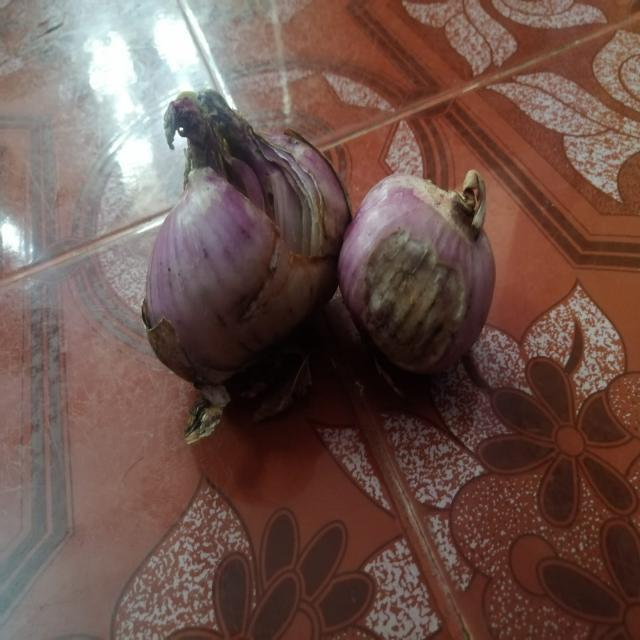rotten: (198, 100, 296, 230), (374, 238, 454, 360)
